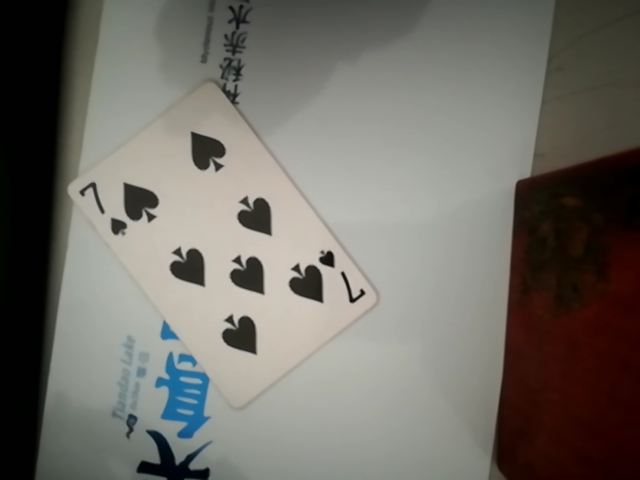ht 7: (69, 86, 376, 406)
